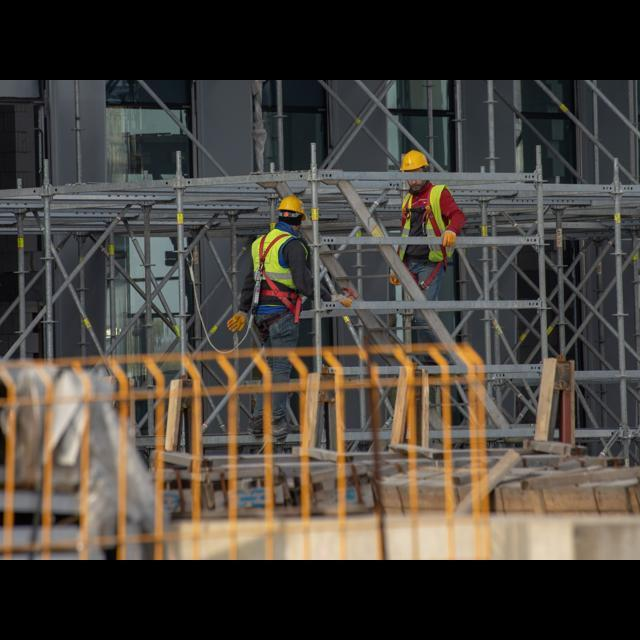helmet: (392, 144, 438, 178), (273, 190, 313, 226)
safety_vest: (245, 219, 319, 316), (386, 186, 466, 272)
